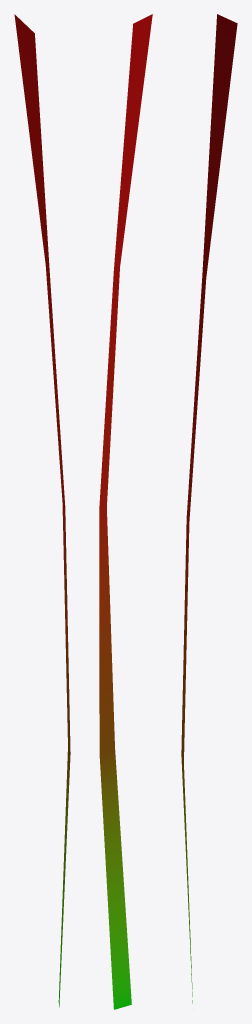
The model's file is Tundra Grass_LOD6_Var16_wk2oaeyqx.fbx.
3 views of the same model, side by side, from view 1: azimuth 90°, elevation 25°; view 2: azimuth 210°, elevation 25°; view 3: azimuth 270°, elevation 25° (orthographic).
Visible parts, largest first — view 1: _6zc8_Var16_LOD6; view 2: _6zc8_Var16_LOD6; view 3: _6zc8_Var16_LOD6.
Part boxes in pixels (x1,y1,x2,y2): _6zc8_Var16_LOD6: (14, 14, 70, 1007); _6zc8_Var16_LOD6: (99, 14, 152, 1009); _6zc8_Var16_LOD6: (181, 14, 237, 1003).
Size of the model in its own units: 0.8095 by 19.65 by 1.01.
